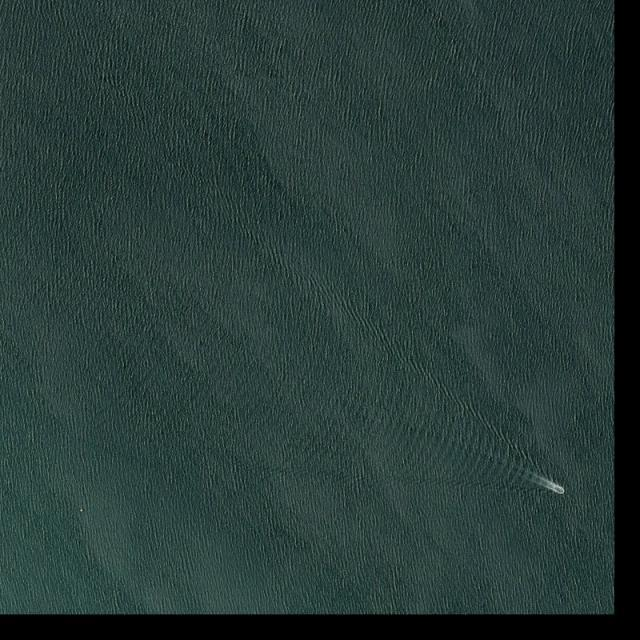ship: (554, 486, 565, 494)
